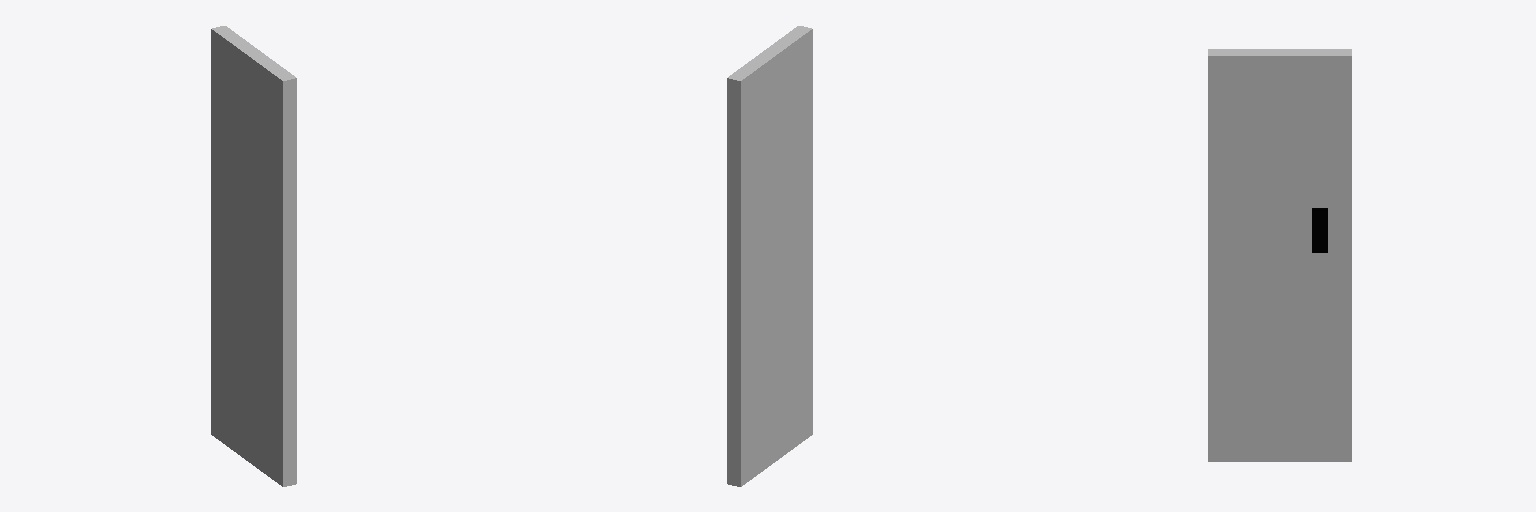
File: serverrackDoor.obj
3 views of the same model, side by side, from view 1: azimuth 30°, elevation 25°; view 2: azimuth 150°, elevation 25°; view 3: azimuth 270°, elevation 25° (orthographic).
Parts seen in each view (by area): view 1: Glass_Cube.033; view 2: Glass_Cube.033; view 3: Glass_Cube.033, Handle_Cube.034.
Boxes of the visible parts, x1,y1,x2,y2 form: Glass_Cube.033: [211, 26, 296, 486]; Glass_Cube.033: [727, 26, 812, 486]; Glass_Cube.033: [1208, 49, 1351, 461]; Handle_Cube.034: [1312, 208, 1327, 252].
Bounding box in the file's own units: 0.25 × 5.6 × 1.8.